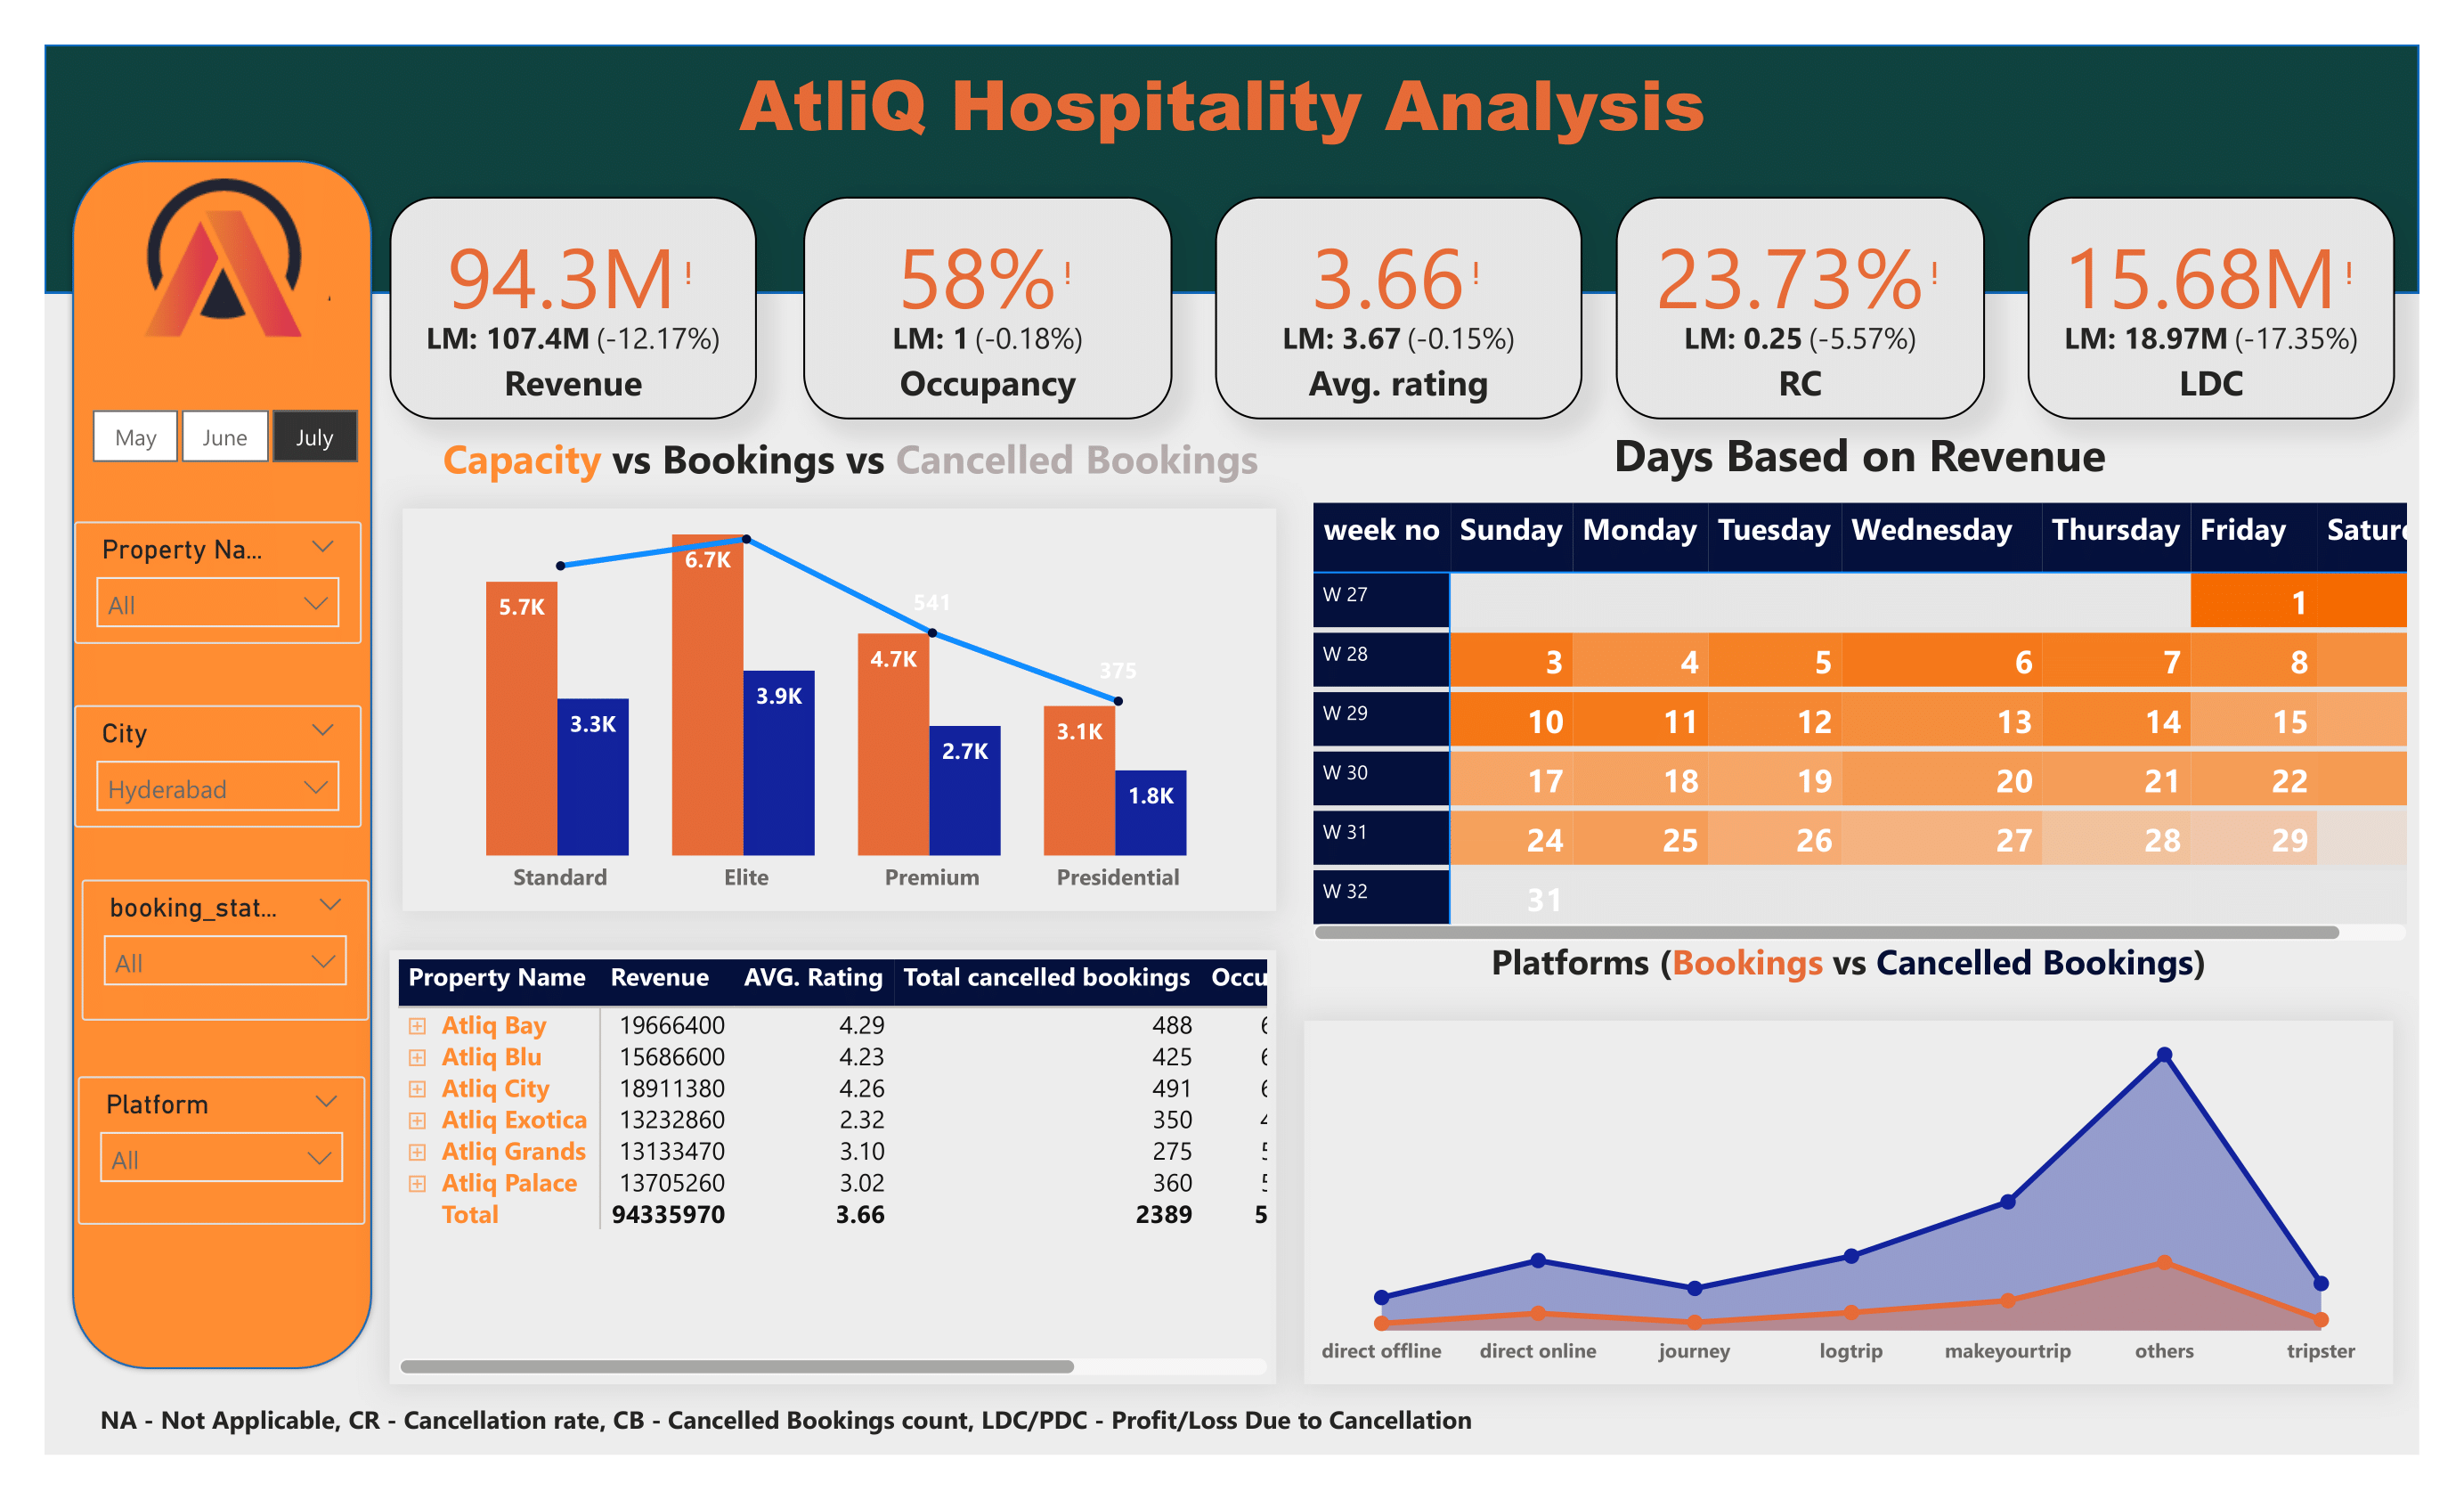

This screenshot's page, from the dashboard's own definition file:
{"tool":"powerbi","page":{"name":"Monthly","canvas":[1280,760],"ordinal":1},"visuals":[{"type":"group","id":"g1","title":"visuals","box":[0,0,1280,760.7],"z":0},{"type":"textbox","box":[0,727.8,1063.8,32.8],"z":0,"group":"g1"},{"type":"shape","box":[0,0,1280,134.4],"z":1000,"group":"g1"},{"type":"image","box":[2,0,52.8,58.9],"z":1000},{"type":"shape","box":[840.8,65.9,194.5,131.9],"z":2000,"group":"g1"},{"type":"shape","box":[624.8,65.9,194.5,131.9],"z":3000,"group":"g1"},{"type":"textbox","box":[679.4,476.2,586.9,50],"z":3000},{"type":"shape","box":[192.9,65.9,194.5,131.9],"z":4000,"group":"g1"},{"type":"textbox","box":[198.7,203.2,471.7,47],"z":4000},{"type":"shape","box":[408.9,65.9,194.5,131.9],"z":5000,"group":"g1"},{"type":"shape","box":[11.5,59.3,168.2,657.8],"z":6000,"group":"g1"},{"type":"shape","box":[1056.7,65.9,194.5,131.9],"z":7000,"group":"g1"},{"type":"pivotTable","fields":{"Rows":["dim_date.week no"],"Values":["Sum(dim_date.DAY)"],"Columns":["Week_day.Weekday"]},"box":[679.2,242.3,598.4,245.6],"z":8000,"group":"g1"},{"type":"slicer","fields":{"Values":["dim_date.mmm yy.Variation.Date Hierarchy.Month"]},"box":[0,189.6,192.9,42.9],"z":9000,"group":"g1"},{"type":"kpi","title":"Revenue","fields":{"Indicator":["resource_measures.revenue"],"TrendLine":["dim_date.date.Variation.Date Hierarchy.Month"],"Goal":["resource_measures.revenue LM"]},"box":[204.4,92.3,176.4,62.6],"z":10000,"group":"g1"},{"type":"kpi","fields":{"Indicator":["resource_measures.Occupancy %"],"TrendLine":["dim_date.date.Variation.Date Hierarchy.Month"],"Goal":["resource_measures.Occupancy % LM"]},"box":[423.7,89,171.5,65.9],"z":11000,"group":"g1"},{"type":"kpi","fields":{"Goal":["resource_measures.cancellation rate LM"],"TrendLine":["dim_date.date.Variation.Date Hierarchy.Month"],"Indicator":["resource_measures.CR"]},"box":[852.3,90.7,174.8,72.5],"z":12000,"group":"g1"},{"type":"kpi","fields":{"Indicator":["resource_measures.LDC"],"Goal":["resource_measures.LDC LM"],"TrendLine":["dim_date.date.Variation.Date Hierarchy.Month"]},"box":[1068.3,89,174.8,80.8],"z":13000,"group":"g1"},{"type":"kpi","title":"Avg. rating ","fields":{"Indicator":["resource_measures.Avg. rating"],"TrendLine":["dim_date.date.Variation.Date Hierarchy.Month"],"Goal":["resource_measures.avg.rating LM"]},"box":[631.4,92.3,183,65.9],"z":14000,"group":"g1"},{"type":"textbox","box":[1083.1,153.3,145.1,46.2],"z":15000,"group":"g1"},{"type":"textbox","box":[860.6,150,145.1,44.5],"z":16000,"group":"g1"},{"type":"textbox","box":[646.2,153.3,145.1,44.5],"z":17000,"group":"g1"},{"type":"textbox","box":[433.6,150,145.1,44.5],"z":18000,"group":"g1"},{"type":"textbox","box":[217.6,156.6,146.7,37.9],"z":19000,"group":"g1"},{"type":"textbox","box":[1.9,0,1278.1,65.6],"z":20000,"group":"g1"},{"type":"image","title":"three dot menu","box":[1213.7,15.1,64.4,47.3],"z":21000,"group":"g1"},{"type":"slicer","fields":{"Values":["dim_hotels.property_name"]},"box":[16.5,257.2,155,65.9],"z":22000,"group":"g1"},{"type":"slicer","fields":{"Values":["dim_hotels.city"]},"box":[16.5,356.1,155,65.9],"z":23000,"group":"g1"},{"type":"slicer","fields":{"Values":["fact_bookings.booking_status"]},"box":[19.8,450.1,155,75.8],"z":24000,"group":"g1"},{"type":"slicer","fields":{"Values":["fact_bookings.booking_platform"]},"box":[18.1,555.6,155,80.8],"z":25000,"group":"g1"},{"type":"image","title":"atliq","box":[15.1,90.4,77.6,73.8],"z":26000,"group":"g1"},{"type":"image","title":"codebasics","box":[85.2,90.4,85.2,77.6],"z":27000,"group":"g1"},{"type":"lineClusteredColumnComboChart","title":"Capacity vs Bookings vs Cancelled Bookings","fields":{"Category":["dim_rooms.room_class"],"Y":["resource_measures.Total capacity","resource_measures.Total sucessful bookings"],"Y2":["resource_measures.Total cancelled bookings"]},"box":[192.6,250.2,471.7,216.9],"z":28000,"group":"g1"},{"type":"areaChart","fields":{"Category":["fact_bookings.booking_platform"],"Y":["resource_measures.Total bookings","resource_measures.Total cancelled bookings"]},"box":[679.4,526.3,586.9,195.6],"z":29000,"group":"g1"},{"type":"pivotTable","fields":{"Rows":["dim_hotels.property_name","dim_hotels.city"],"Values":["resource_measures.revenue","resource_measures.Avg. rating","resource_measures.Total capacity","resource_measures.Occupancy %","resource_measures.CR"]},"box":[186.3,488,478.1,234.1],"z":30000,"group":"g1"},{"type":"textbox","box":[679.2,199.5,598.4,49.5],"z":31000,"group":"g1"}]}

Visuals, with their boxes on the page's 1280x760 design canvas (x1, y1, x2, y2). These are canvas units, not pixel positions in the 2464x1500 screenshot, which may show the page scaled, cropped or inside an application window:
"visuals" group: 0:0:1280:761
textbox: 0:728:1064:761
shape: 0:0:1280:134
image: 2:0:55:59
shape: 841:66:1035:198
shape: 625:66:819:198
textbox: 679:476:1266:526
shape: 193:66:387:198
textbox: 199:203:670:250
shape: 409:66:603:198
shape: 12:59:180:717
shape: 1057:66:1251:198
pivotTable - dim_date.week no x Sum(dim_date.DAY): 679:242:1278:488
slicer - dim_date.mmm yy.Variation.Date Hierarchy.Month: 0:190:193:232
"Revenue" kpi: 204:92:381:155
kpi - resource_measures.Occupancy % x dim_date.date.Variation.Date Hierarchy.Month: 424:89:595:155
kpi - resource_measures.cancellation rate LM x dim_date.date.Variation.Date Hierarchy.Month: 852:91:1027:163
kpi - resource_measures.LDC x resource_measures.LDC LM: 1068:89:1243:170
"Avg. rating " kpi: 631:92:814:158
textbox: 1083:153:1228:200
textbox: 861:150:1006:194
textbox: 646:153:791:198
textbox: 434:150:579:194
textbox: 218:157:364:194
textbox: 2:0:1280:66
"three dot menu" image: 1214:15:1278:62
slicer - dim_hotels.property_name: 16:257:172:323
slicer - dim_hotels.city: 16:356:172:422
slicer - fact_bookings.booking_status: 20:450:175:526
slicer - fact_bookings.booking_platform: 18:556:173:636
"atliq" image: 15:90:93:164
"codebasics" image: 85:90:170:168
"Capacity vs Bookings vs Cancelled Bookings" lineClusteredColumnComboChart: 193:250:664:467
areaChart - fact_bookings.booking_platform x resource_measures.Total bookings: 679:526:1266:722
pivotTable - dim_hotels.property_name x dim_hotels.city: 186:488:664:722
textbox: 679:200:1278:249
